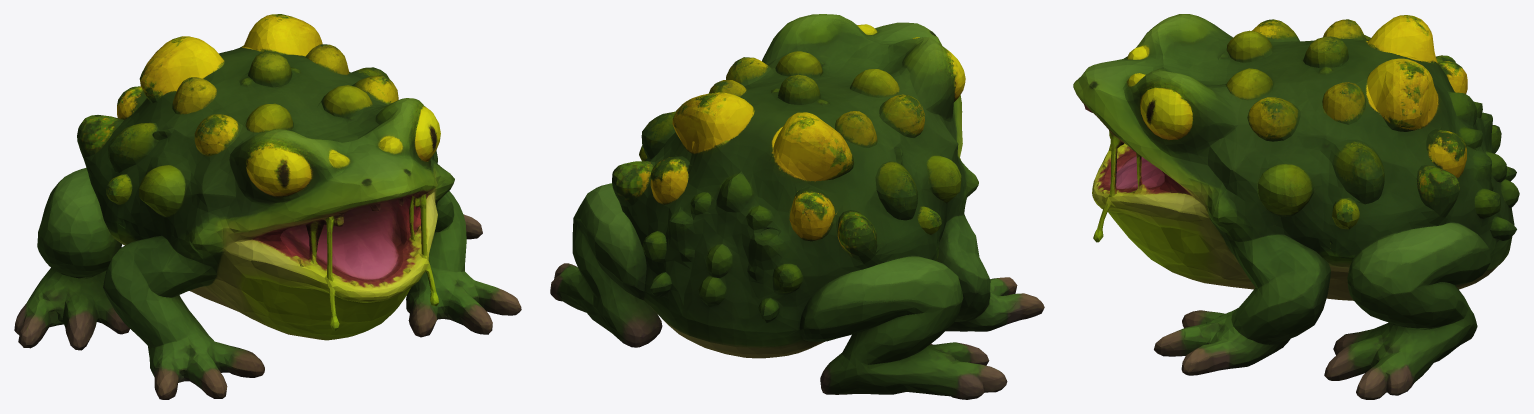
File: trellis-1.glb
3 renders of one model, left to right at view 1: azimuth 30°, elevation 25°; view 2: azimuth 150°, elevation 25°; view 3: azimuth 270°, elevation 25°, orthographic. The views are drawn at different scales.
Parts seen in each view (by area): view 1: world; view 2: world; view 3: world.
Part boxes in pixels (bbox=[...]): world: bbox=[14, 14, 521, 399]; world: bbox=[550, 14, 1044, 399]; world: bbox=[1073, 14, 1519, 399].
Size of the model in its own units: 1 by 0.5263 by 0.8384.
Materials: 1 (1 with a texture image).
